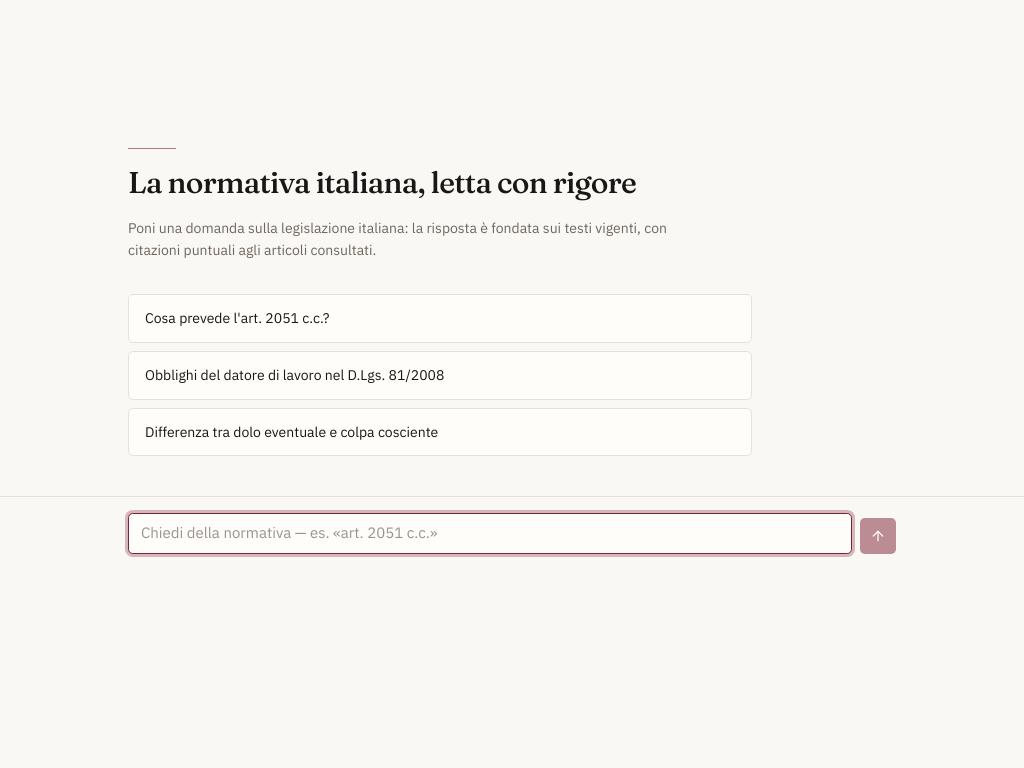
it: FeedbackButtons in Chat › 👍 → POST con question/answer/citations/config e stato «Grazie»
Type "art. 2051 c.c." into the text box named "Domanda sulla normativa".
click(490, 534); type("art. 2051 c.c.")  # box [128,513,852,554]
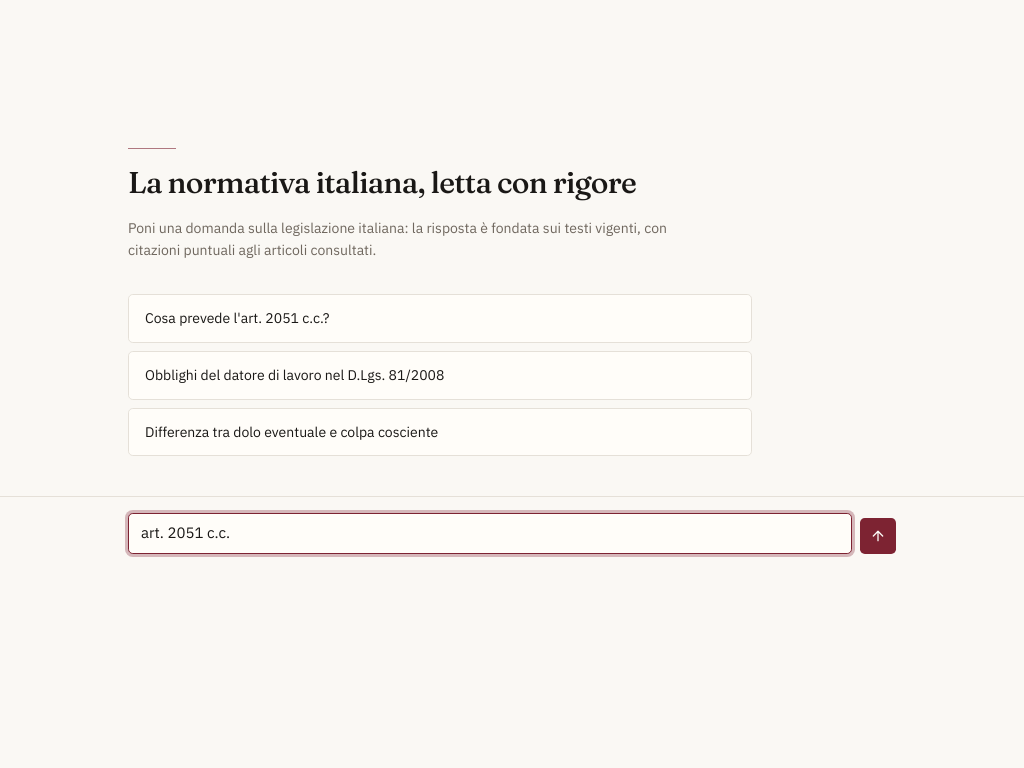
Press Enter in the text box named "Domanda sulla normativa", box [128,513,852,554]
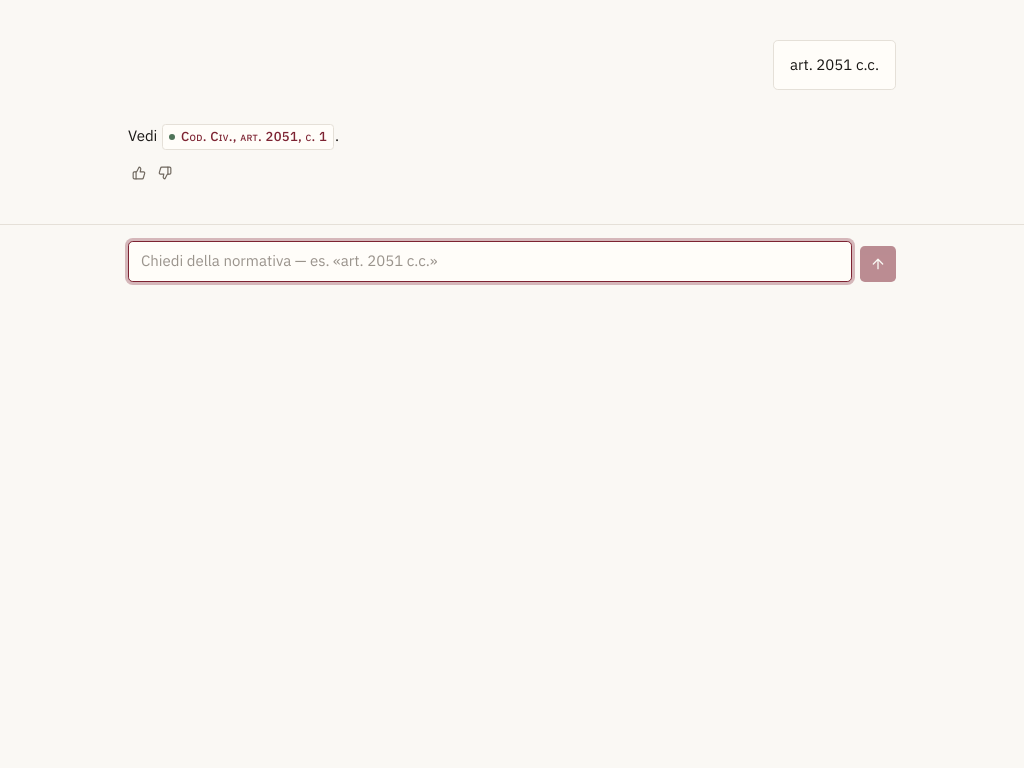
Click the button named "Risposta utile".
click(139, 173)  # box [128,162,150,184]
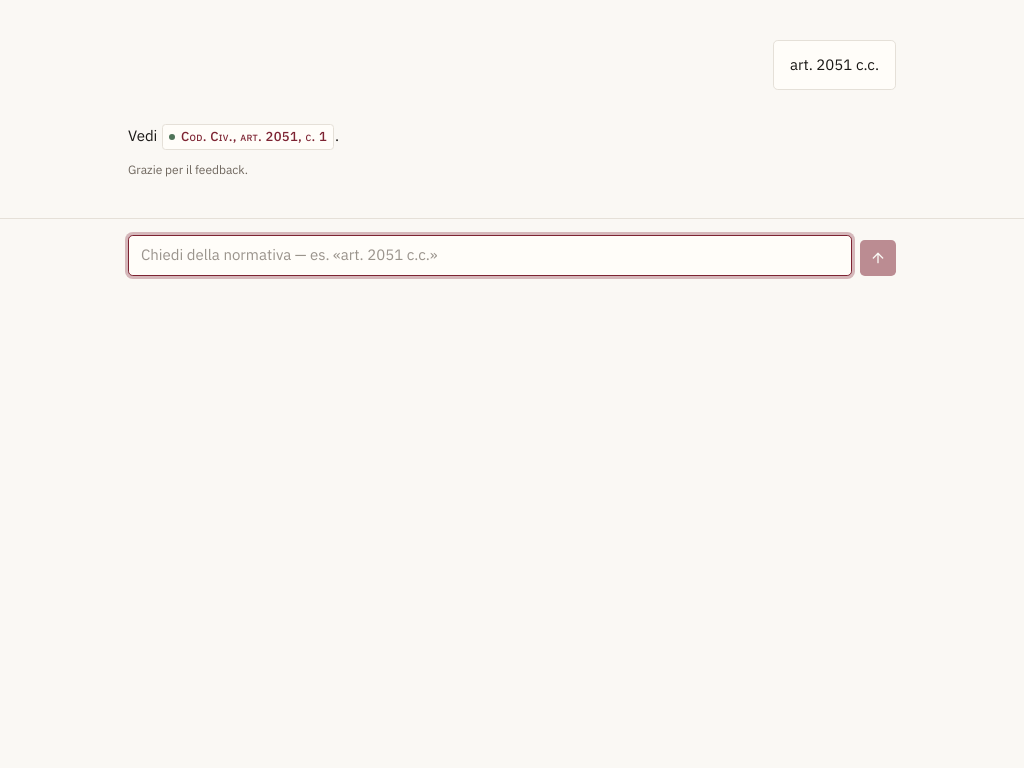
Result: the text "Grazie per il feedback." is shown at [128,162,248,177]
